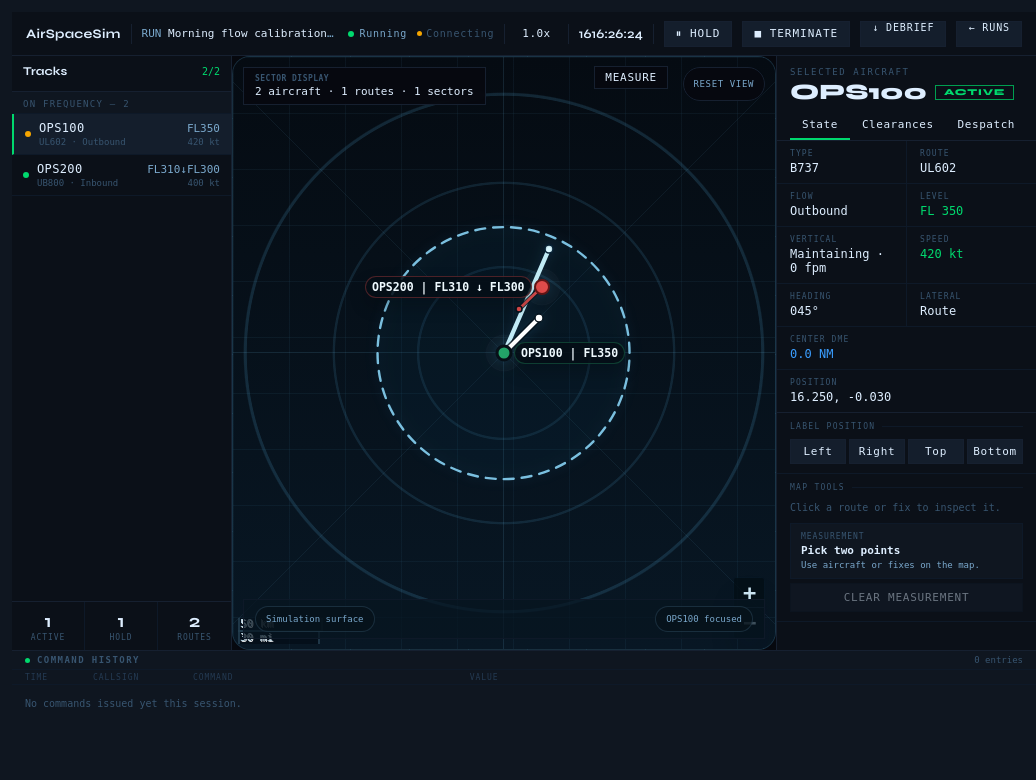
it: RunDetailPage › submits a guided SET_SPEED command and shows the last result
expect the heading "Morning flow calibration" is shown: met, box [168, 27, 334, 40]
Click the button "Clearances" at x=898, y=126, box [850, 111, 946, 140]
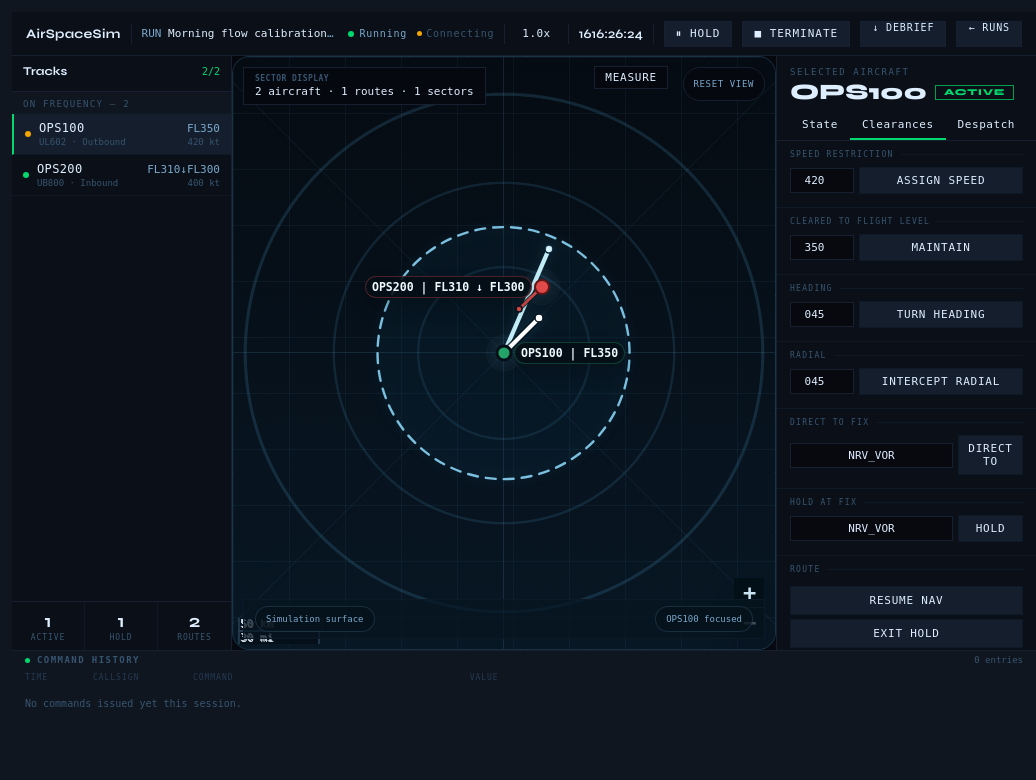
Replace the text in the number field named "Assigned speed" with "480" at x=822, y=180, box [790, 168, 854, 193]
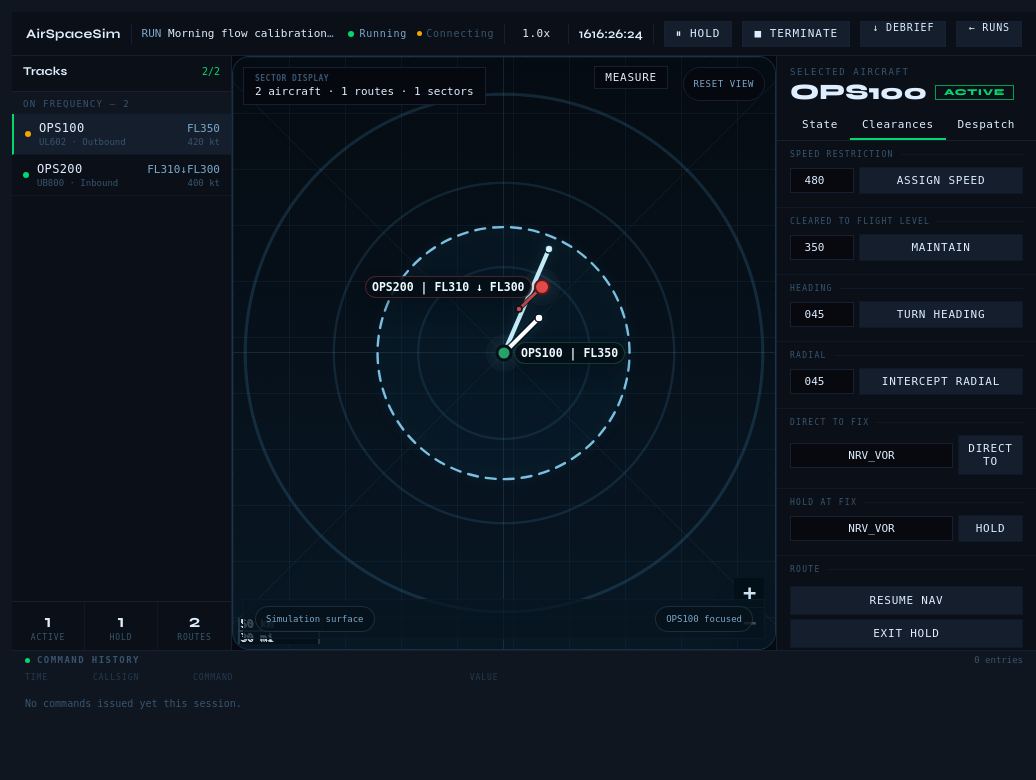
Click the button "Assign Speed" at x=941, y=180, box [859, 167, 1023, 194]
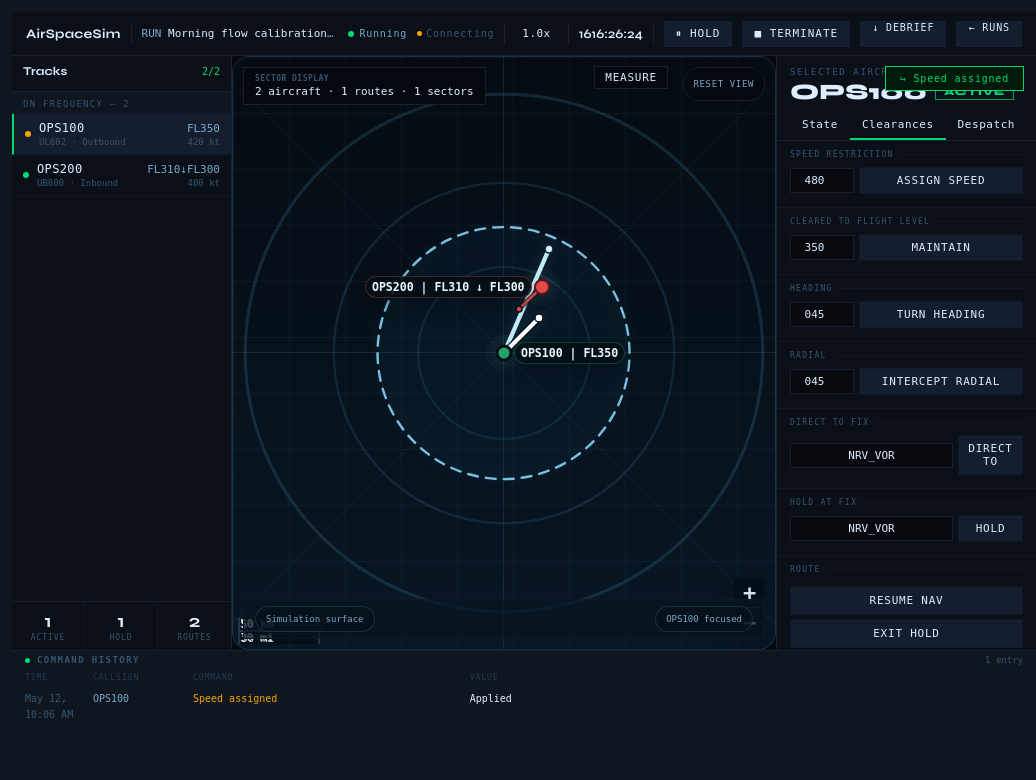
expect the heading "Command History" is shown: met, box [37, 655, 140, 665]
expect the text "Speed assigned" is shown: met, box [193, 693, 277, 704]
expect the text "Applied" is shown: met, box [470, 693, 512, 704]
